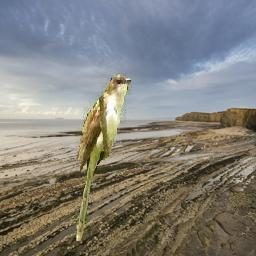Cuckoo: (77, 73, 134, 241)
